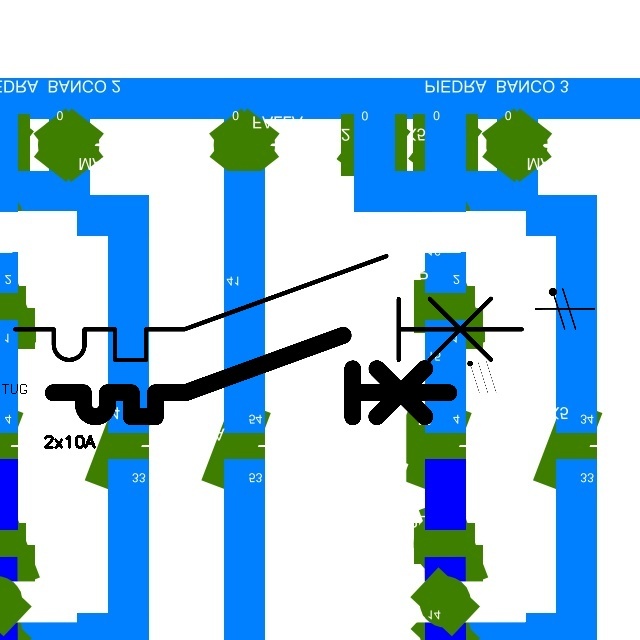interruptor_termomagnetico: (2, 243, 534, 373), (43, 325, 459, 427)
